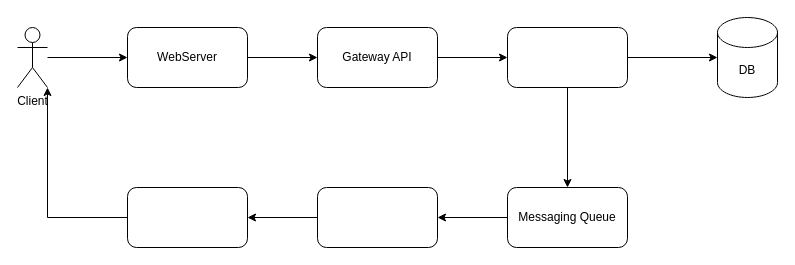
This 795x265 diagram has some shape labels left out. Here are the shapes that lost their labels. From the top down, the box of each, then its label:
(506, 26, 628, 88): TaskService
(126, 186, 248, 248): Socket/SSE
(316, 186, 438, 248): Notification Service
